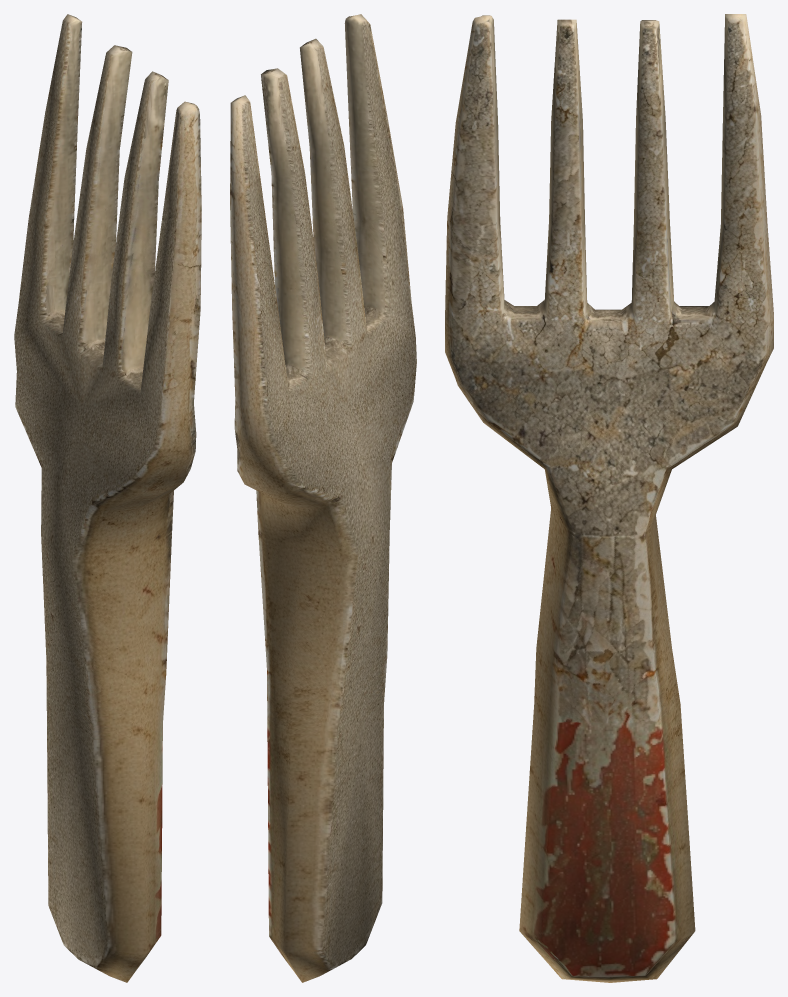
The picture shows the model from 3 angles, left to right: view 1: azimuth 30°, elevation 25°; view 2: azimuth 150°, elevation 25°; view 3: azimuth 270°, elevation 25°; orthographic projection. The views are drawn at different scales.
Visible parts, largest first — view 1: tripo_node_14c2092a-a25c-4567-8ff5-c5d619a8467f; view 2: tripo_node_14c2092a-a25c-4567-8ff5-c5d619a8467f; view 3: tripo_node_14c2092a-a25c-4567-8ff5-c5d619a8467f.
Boxes of the visible parts, x1,y1,x2,y2 form: tripo_node_14c2092a-a25c-4567-8ff5-c5d619a8467f: (14, 14, 201, 982); tripo_node_14c2092a-a25c-4567-8ff5-c5d619a8467f: (230, 14, 416, 982); tripo_node_14c2092a-a25c-4567-8ff5-c5d619a8467f: (445, 14, 773, 982).
Size of the model in its own units: 0.123 by 0.998 by 0.3027.
1 material, 1 textured.
